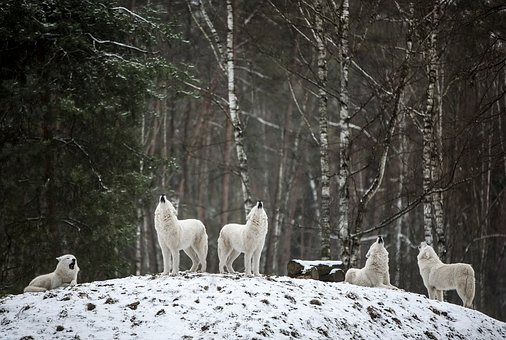forest: (12, 6, 506, 289)
